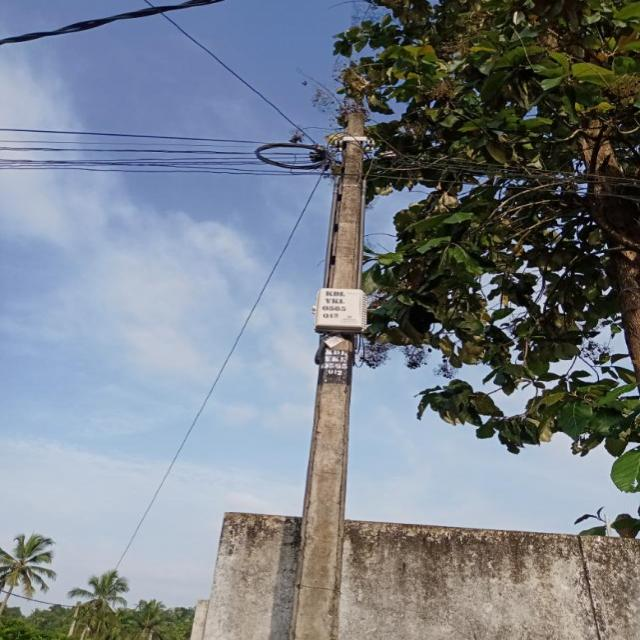light_pole: (278, 109, 365, 640)
